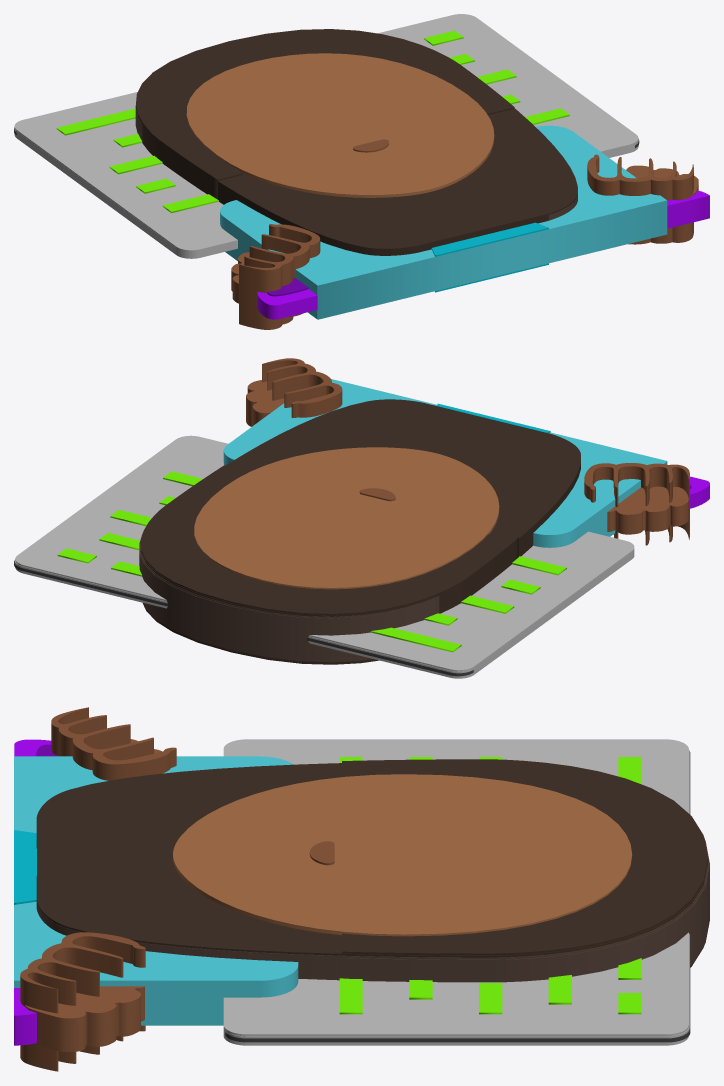
The model's file is emoji_u1f469_1f3fe_200d_1f4bb.glb.
3 views of the same model, one above another, from view 1: azimuth 30°, elevation 25°; view 2: azimuth 150°, elevation 25°; view 3: azimuth 270°, elevation 25° (orthographic). The views are drawn at different scales.
Parts seen in each view (by area): view 1: emoji_u1f469_1f3fe_200d_1f4bb; view 2: emoji_u1f469_1f3fe_200d_1f4bb; view 3: emoji_u1f469_1f3fe_200d_1f4bb.
Boxes of the visible parts, x1,y1,x2,y2 form: emoji_u1f469_1f3fe_200d_1f4bb: [14, 14, 709, 329]; emoji_u1f469_1f3fe_200d_1f4bb: [14, 358, 709, 678]; emoji_u1f469_1f3fe_200d_1f4bb: [14, 707, 709, 1071].
Bounding box in the file's own units: 0.0339 × 0.0044 × 0.0337.
